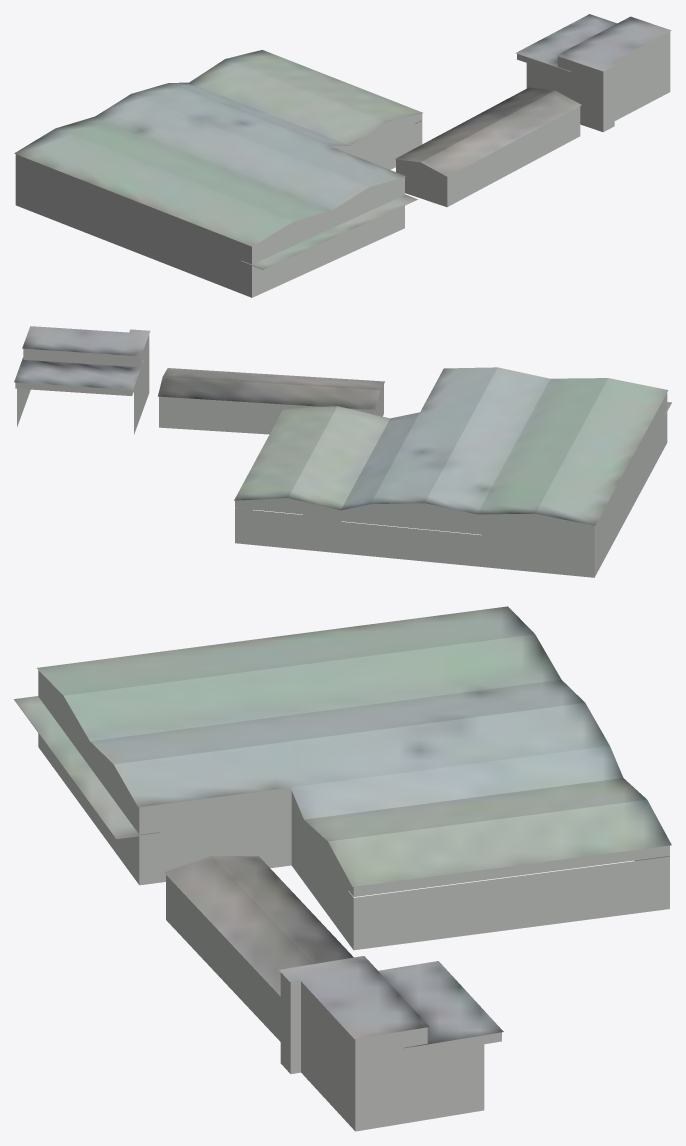
Rendered from LSGS_2_1.glb.
3 views of the same model, one above another, from view 1: azimuth 30°, elevation 25°; view 2: azimuth 150°, elevation 25°; view 3: azimuth 270°, elevation 25° (orthographic). The views are drawn at different scales.
Parts seen in each view (by area): view 1: building_9e8106791efd913d, building_446ed62290ab430e; view 2: building_9e8106791efd913d, building_446ed62290ab430e; view 3: building_9e8106791efd913d, building_446ed62290ab430e.
Boxes of the visible parts, bbox=[...] form: building_9e8106791efd913d: bbox=[14, 14, 671, 269]; building_446ed62290ab430e: bbox=[15, 32, 670, 297]; building_9e8106791efd913d: bbox=[14, 326, 671, 525]; building_446ed62290ab430e: bbox=[15, 334, 671, 577]; building_9e8106791efd913d: bbox=[14, 606, 671, 1048]; building_446ed62290ab430e: bbox=[14, 670, 669, 1131].
Bounding box in the file's own units: 162 × 16.22 × 100.
Materials: 2 (1 with a texture image).
